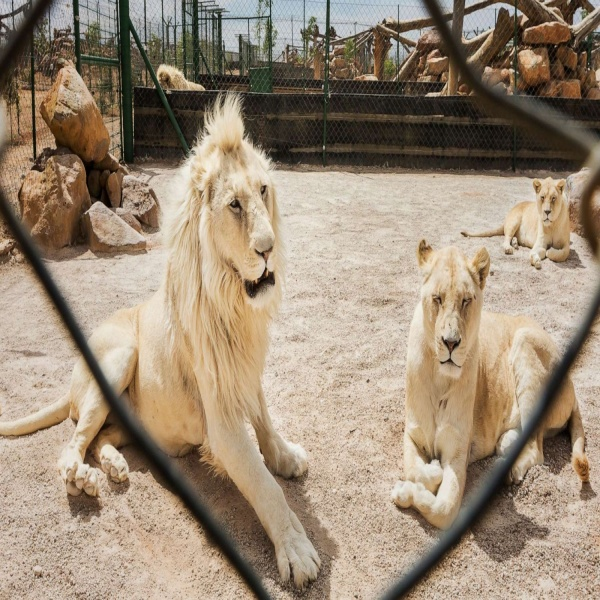Lion: (9, 98, 331, 590), (389, 237, 590, 537), (459, 174, 583, 274)
